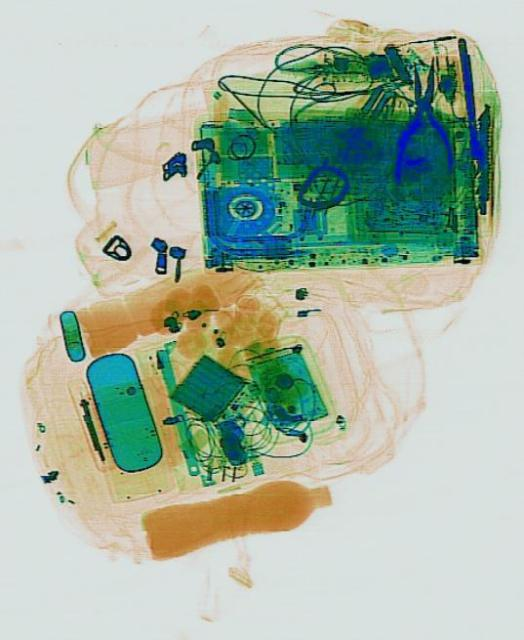Pliers: (391, 55, 452, 181)
